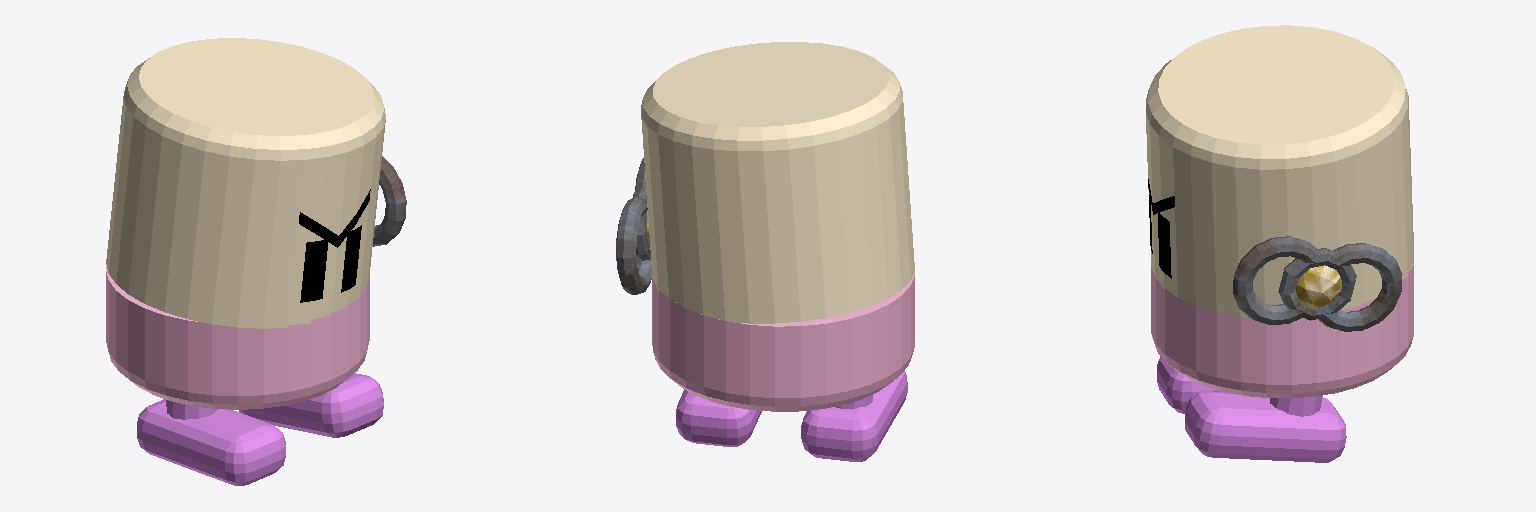
3 views of the same model, side by side, from view 1: azimuth 30°, elevation 25°; view 2: azimuth 150°, elevation 25°; view 3: azimuth 270°, elevation 25° (orthographic).
Visible parts, largest first — view 1: Head, Jaw, RightLeg, LeftLeg, WindupKey; view 2: Head, Jaw, RightLeg, LeftLeg, WindupKey; view 3: Head, Jaw, WindupKey, LeftLeg, RightLeg.
Part boxes in pixels (bbox=[...]): Head: bbox=[106, 38, 385, 328]; Jaw: bbox=[106, 266, 369, 409]; RightLeg: bbox=[137, 399, 285, 485]; LeftLeg: bbox=[239, 373, 383, 437]; WindupKey: bbox=[373, 156, 406, 246]; Head: bbox=[641, 42, 914, 323]; Jaw: bbox=[652, 273, 914, 411]; RightLeg: bbox=[801, 371, 907, 461]; LeftLeg: bbox=[676, 389, 761, 446]; WindupKey: bbox=[616, 158, 651, 294]; Head: bbox=[1146, 25, 1413, 317]; Jaw: bbox=[1151, 264, 1413, 397]; WindupKey: bbox=[1233, 236, 1402, 331]; LeftLeg: bbox=[1185, 391, 1346, 462]; RightLeg: bbox=[1157, 356, 1221, 413].
Size of the model in its own units: 115 by 151 by 102.
6 materials, 2 textured.